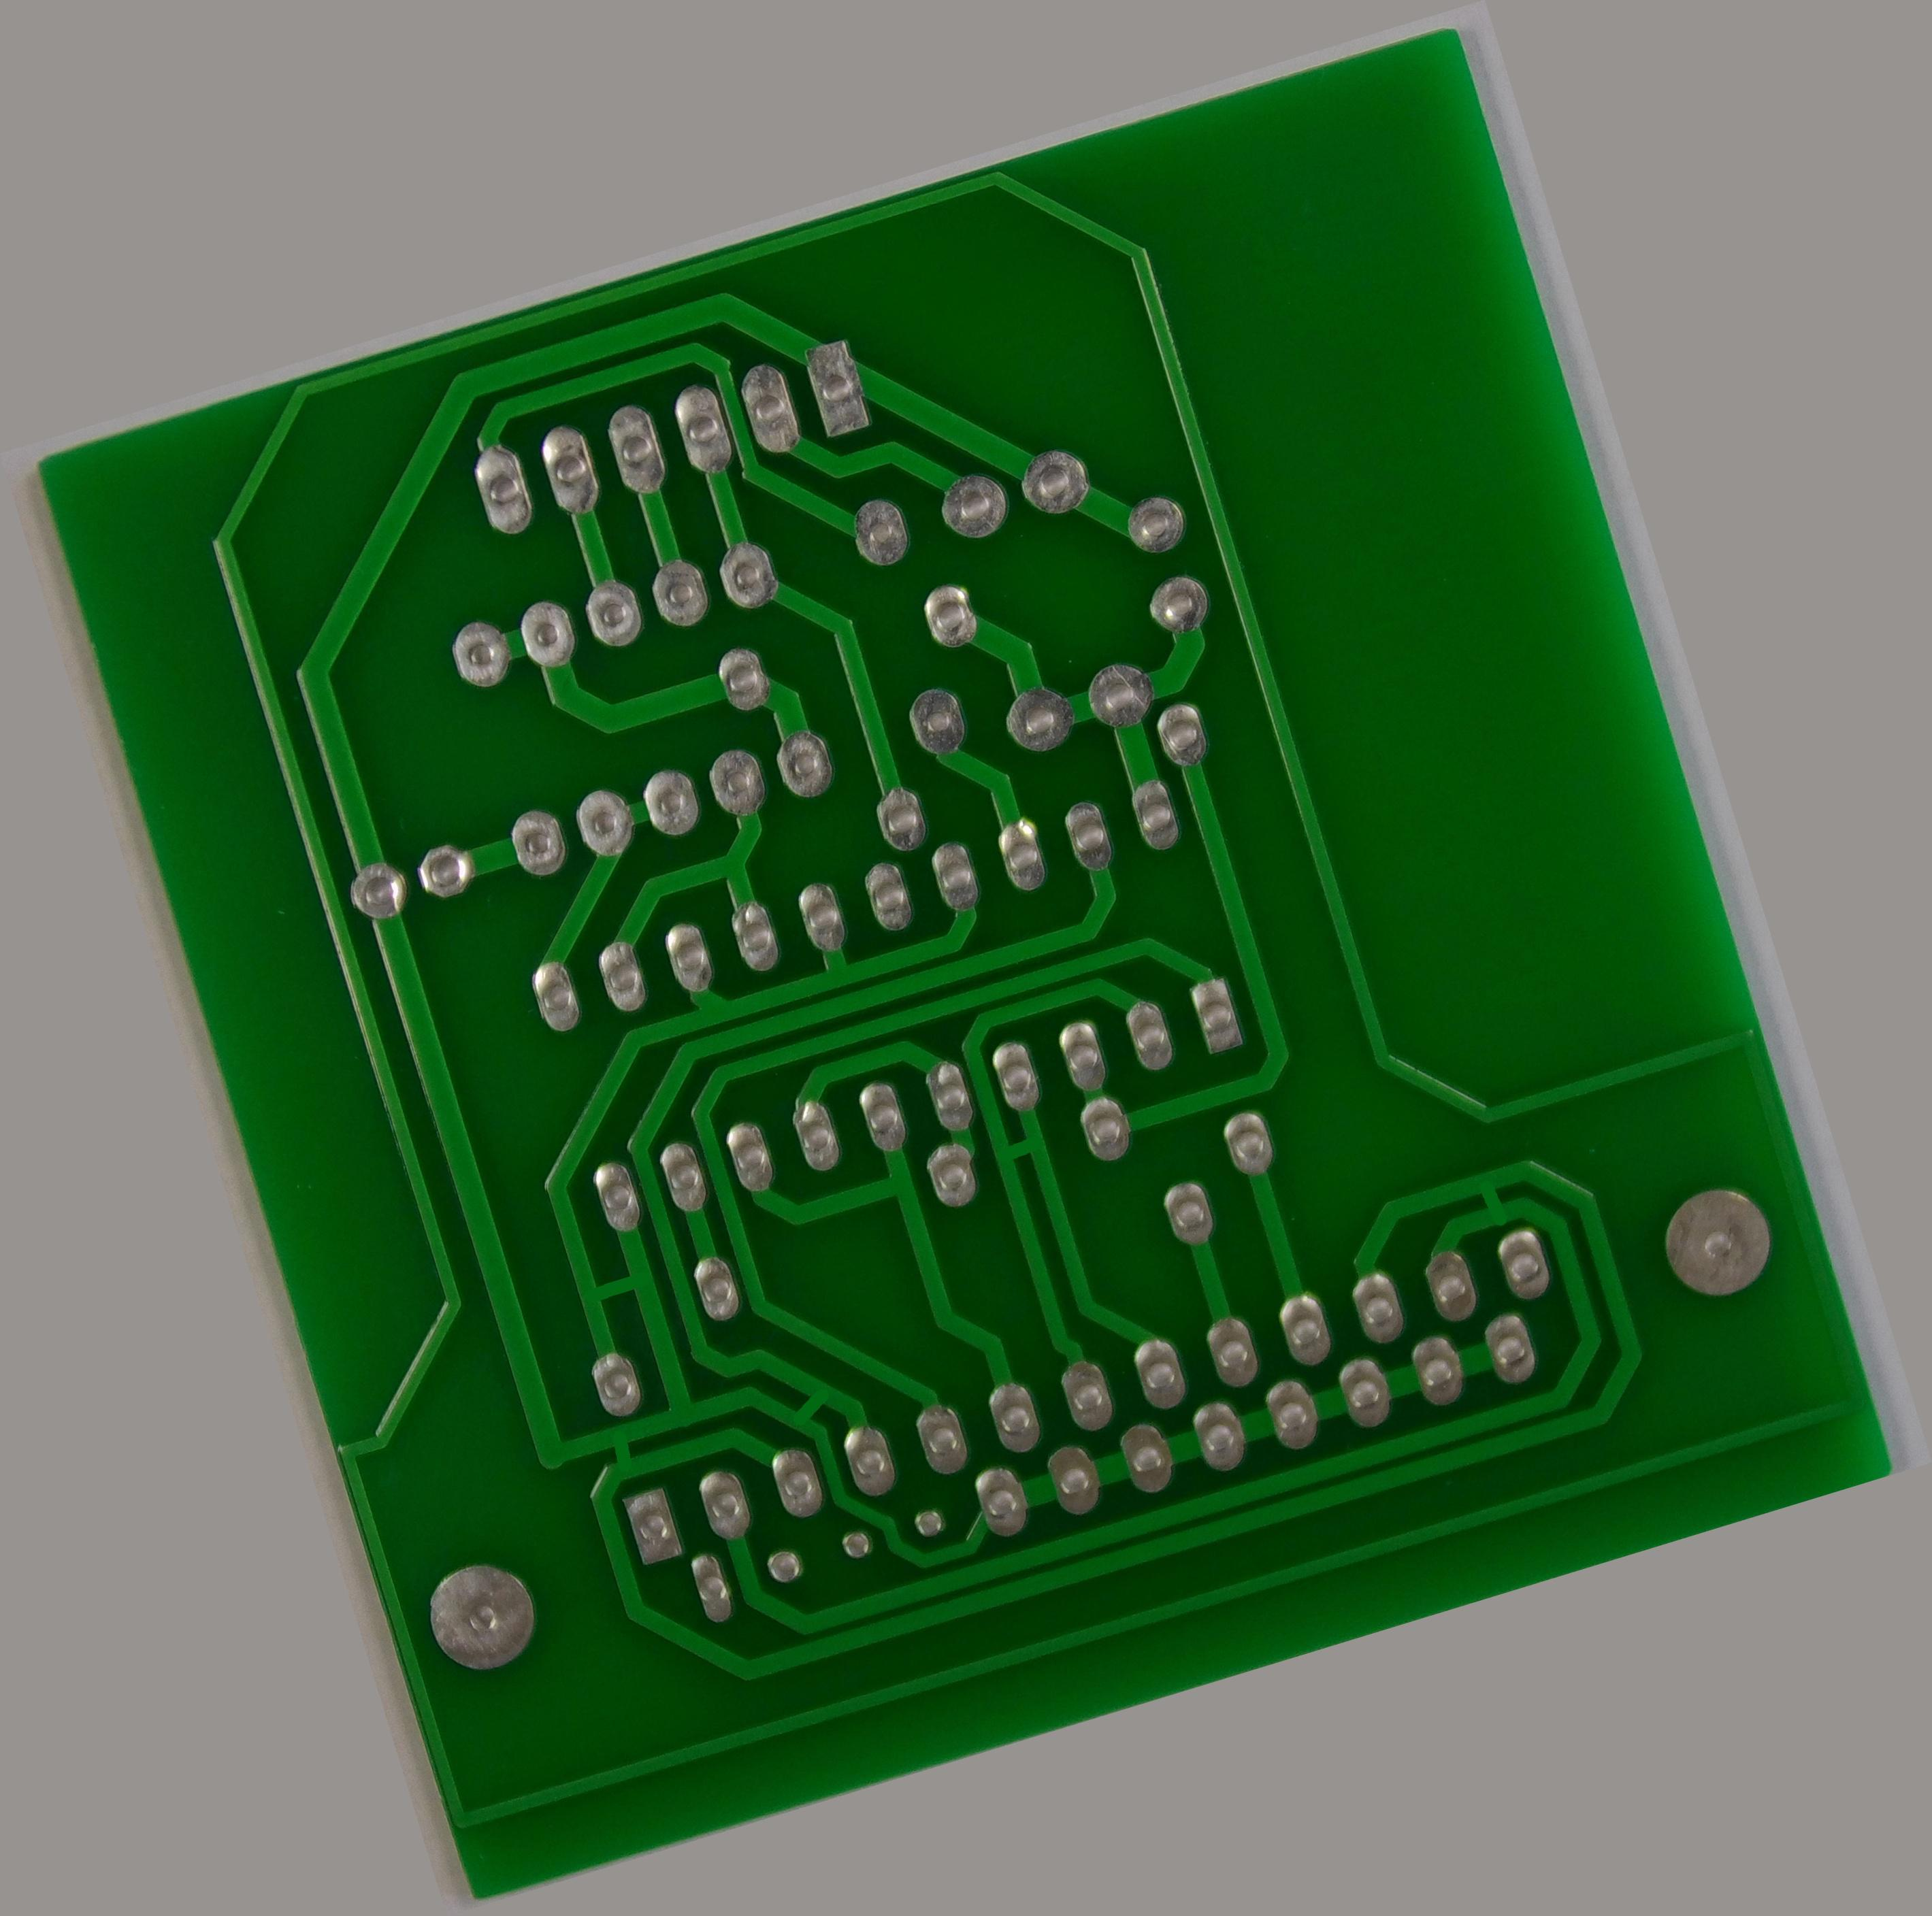short: (560, 1249, 667, 1326), (760, 1365, 853, 1446), (1449, 1155, 1527, 1244), (581, 1407, 656, 1488), (976, 1114, 1058, 1183)
